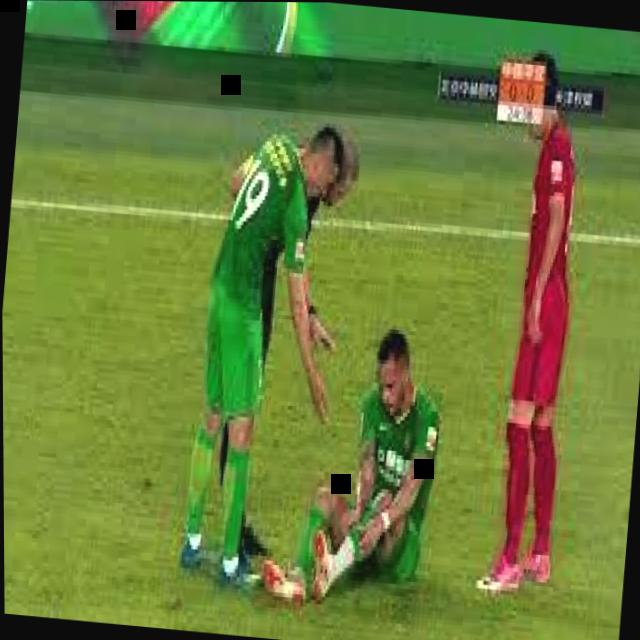Fall-Detected: (251, 290, 458, 622)
